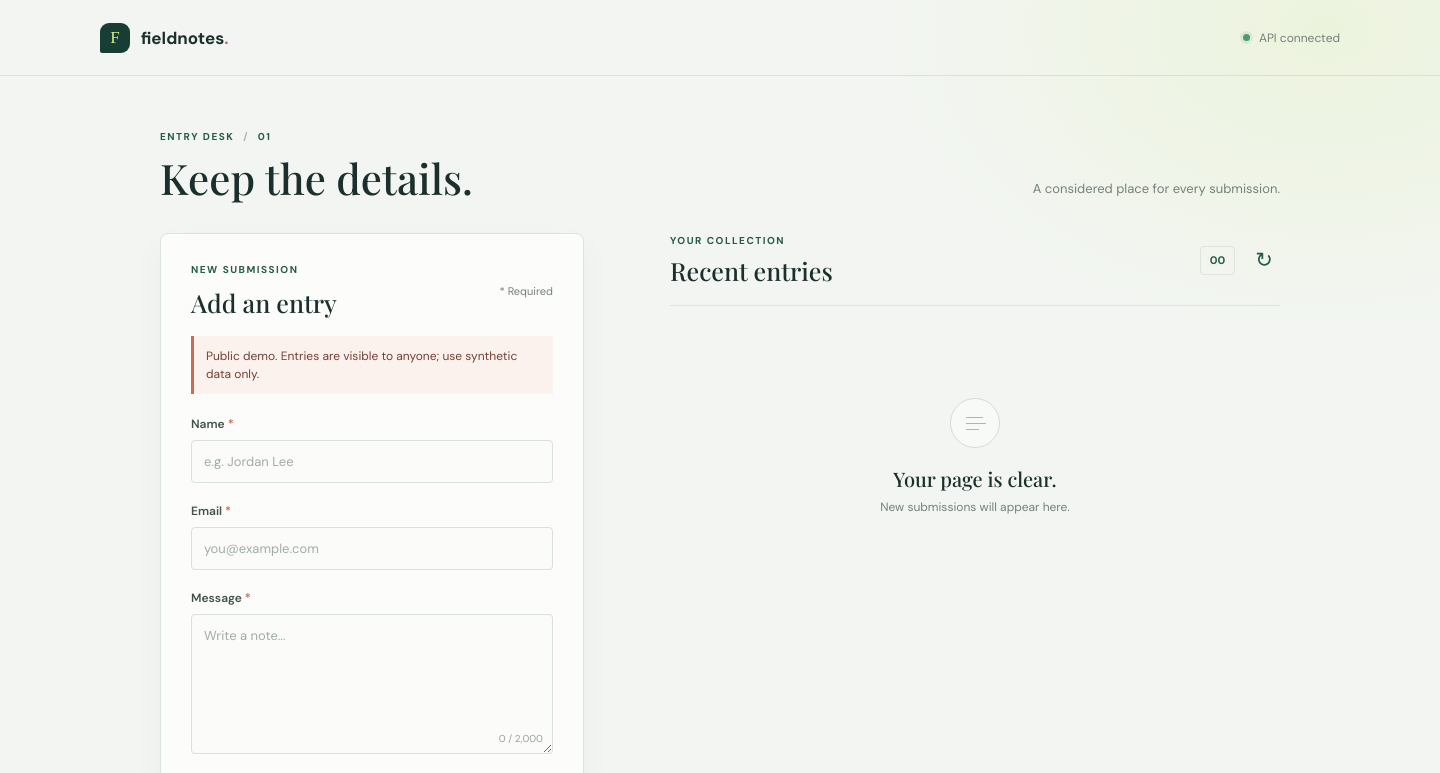
public entries client › shows API validation errors and retains form contents without retrying
In the field with test id "entry-form-name-input": (372, 462) [191,440,553,483], type "Synthetic User"
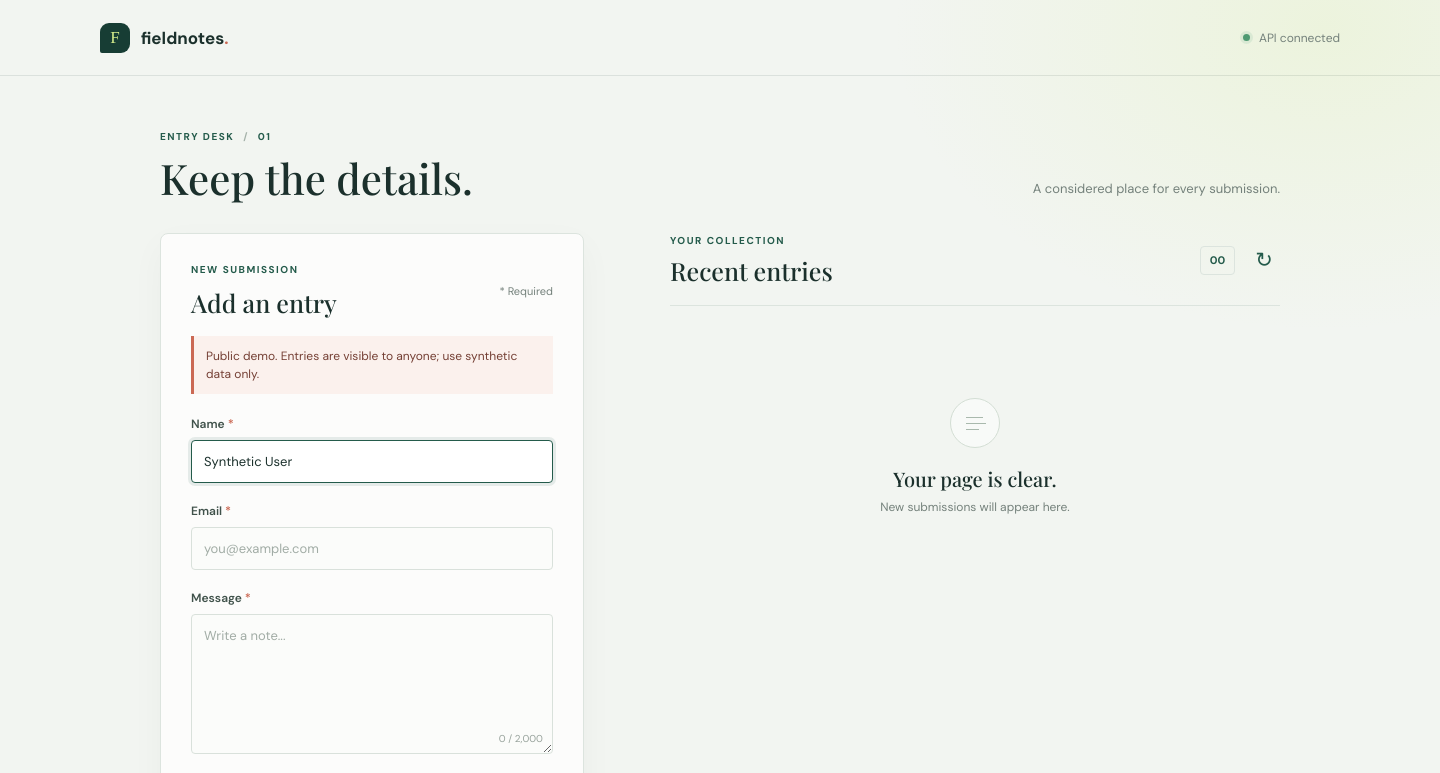
In the field with test id "entry-form-email-input": (372, 549) [191,527,553,570], type "synthetic@example.com"
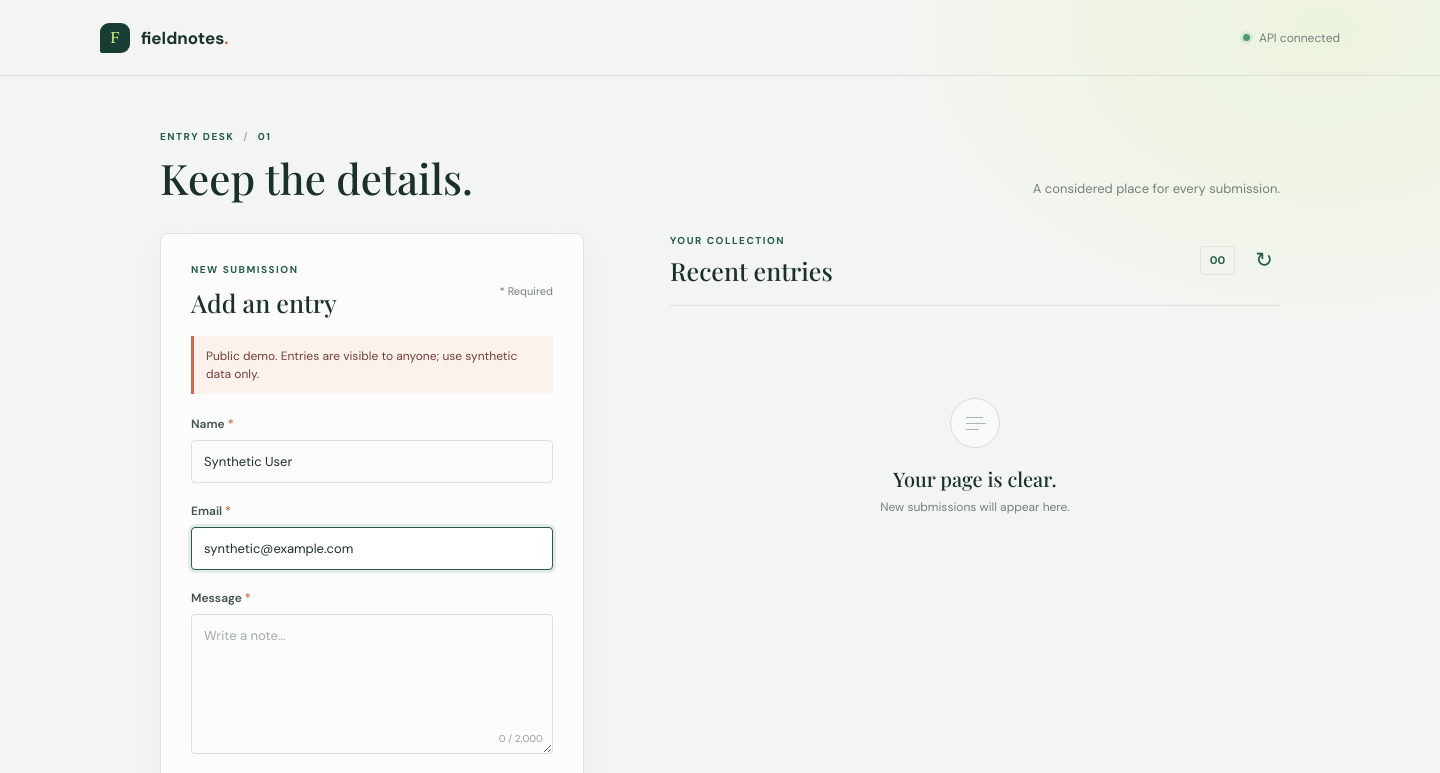
In the text box with test id "entry-form-message-input": (372, 684) [191,614,553,754], type "Synthetic message"
(page scrolled)
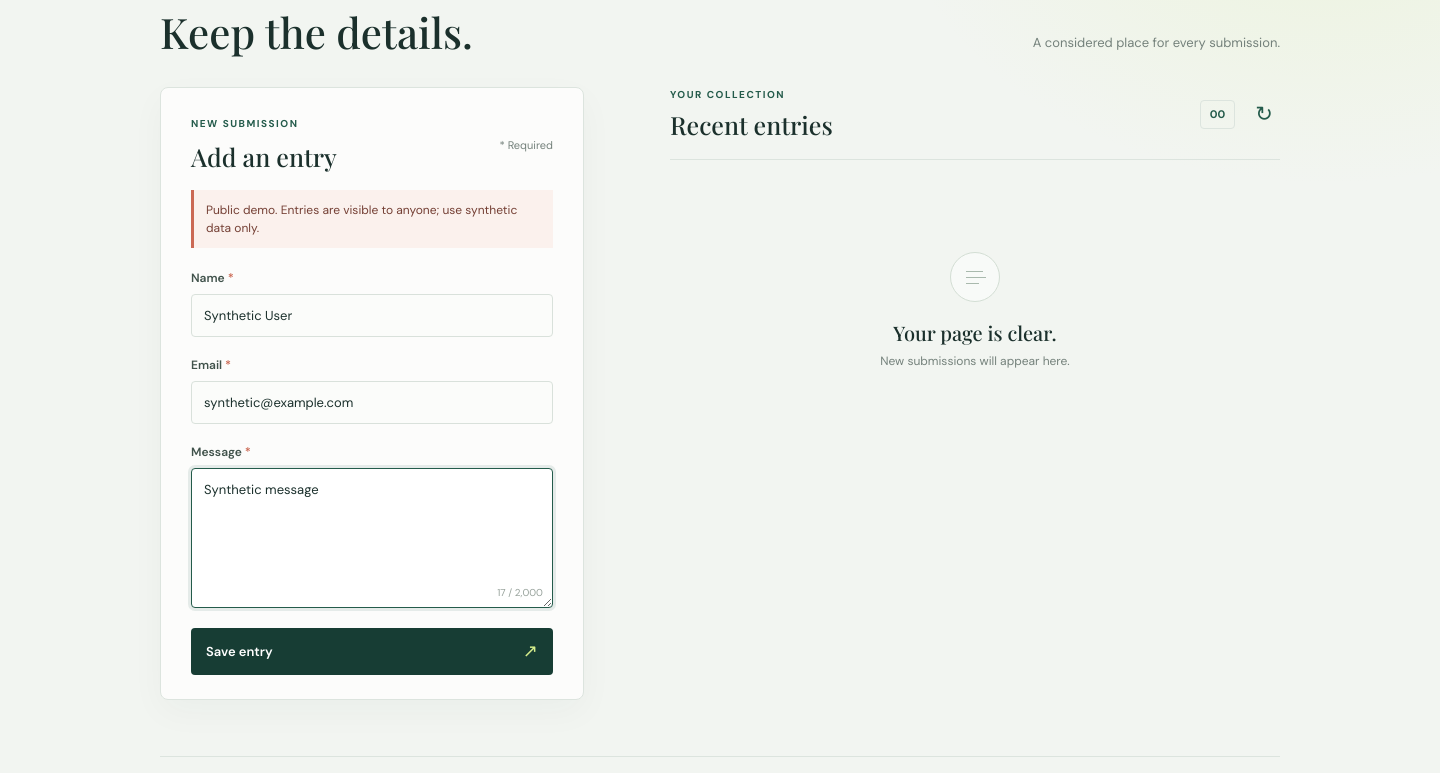
Click the button with test id "entry-form-submit-button": (239, 651) [191,628,553,675]
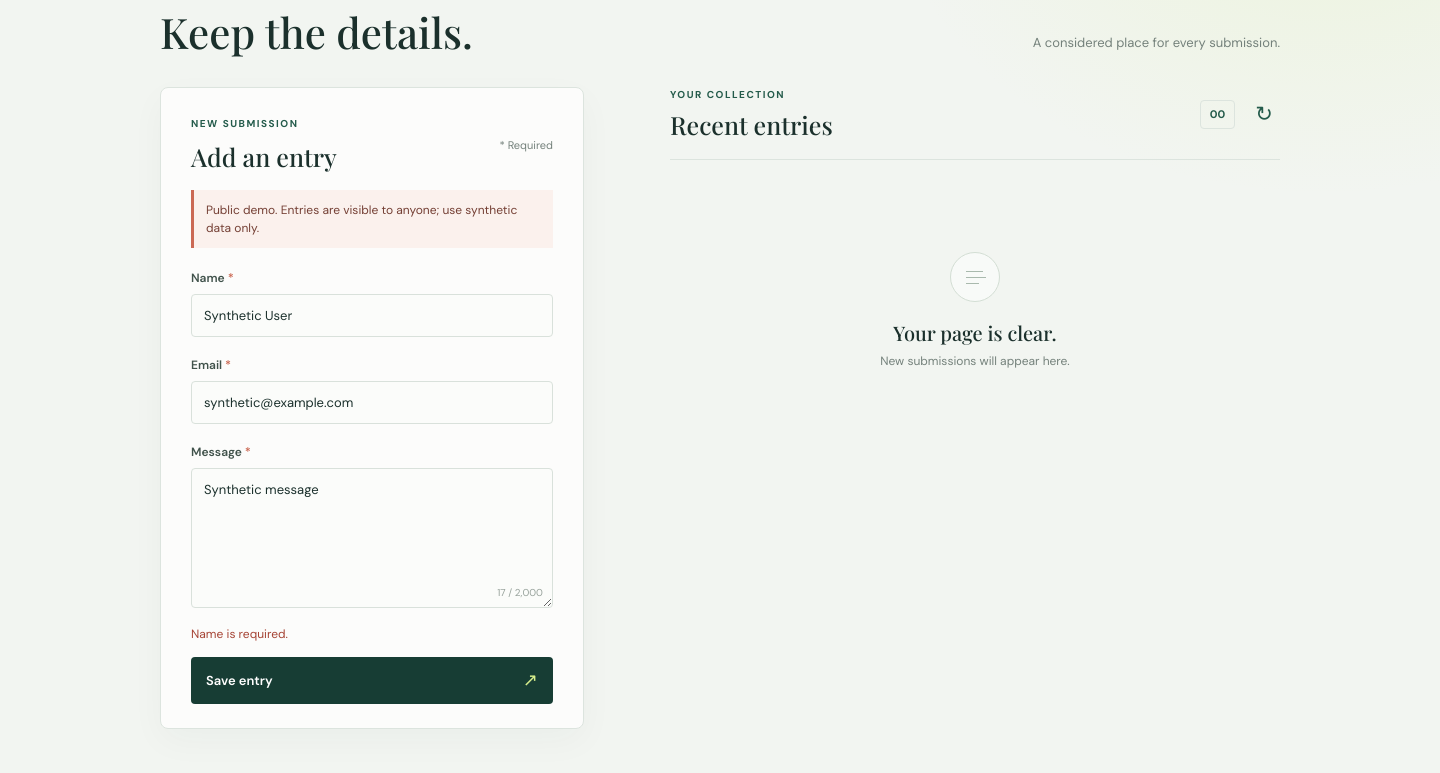
Expected: the message reads "Name is required.", [191,626,288,642]
